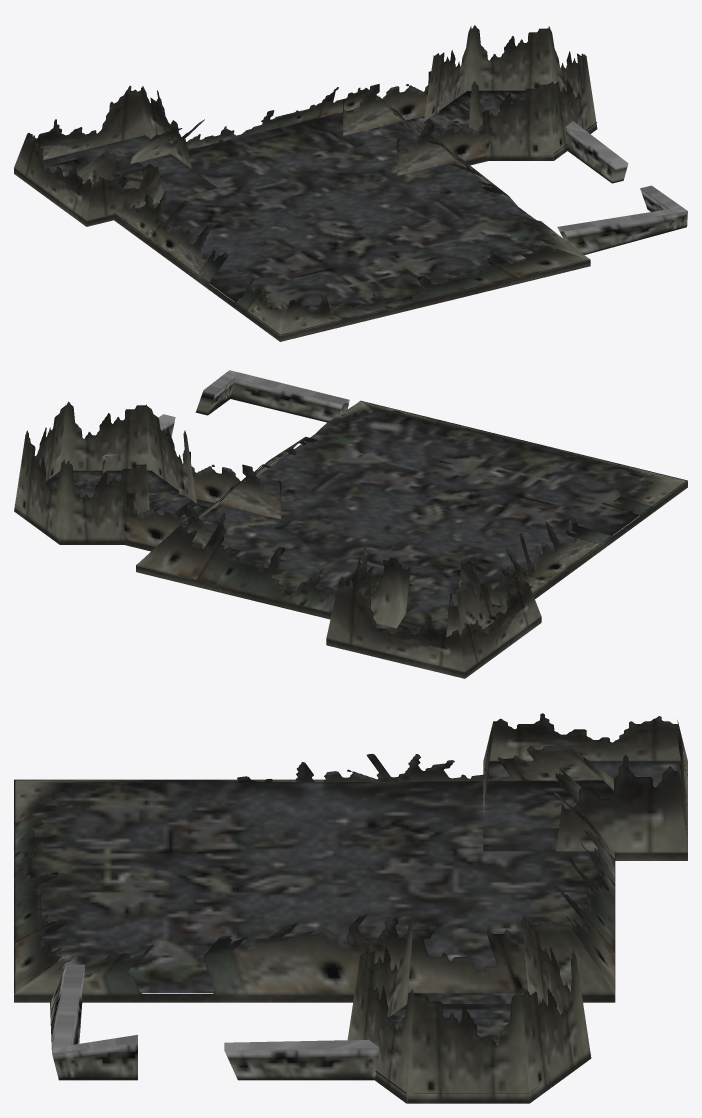
Rendered from bturretcontrol_dam.glb.
3 renders of one model, top to bottom at view 1: azimuth 30°, elevation 25°; view 2: azimuth 150°, elevation 25°; view 3: azimuth 270°, elevation 25°, orthographic. The views are drawn at different scales.
Visible parts, largest first — view 1: Dturretcontrol; view 2: Dturretcontrol; view 3: Dturretcontrol.
Boxes of the visible parts, bbox=[...] form: Dturretcontrol: bbox=[14, 25, 687, 341]; Dturretcontrol: bbox=[14, 370, 687, 678]; Dturretcontrol: bbox=[14, 713, 687, 1103].
Bounding box in the file's own units: 25.19 × 4.41 × 21.54.
2 materials, 2 textured.
